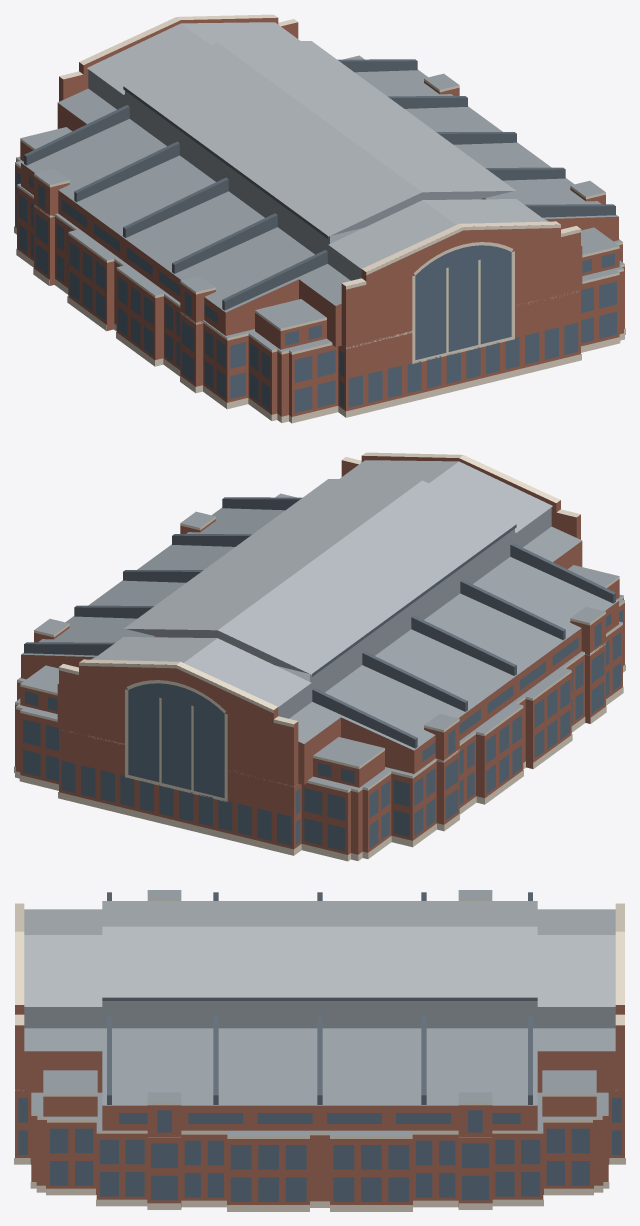
The model's file is indy-lucas-oil-stadium.glb.
3 renders of one model, top to bottom at view 1: azimuth 30°, elevation 25°; view 2: azimuth 150°, elevation 25°; view 3: azimuth 270°, elevation 25°, orthographic. The views are drawn at different scales.
Parts seen in each view (by area): view 1: Lucas Oil Stadium; view 2: Lucas Oil Stadium; view 3: Lucas Oil Stadium.
Part boxes in pixels (bbox=[...]): Lucas Oil Stadium: bbox=[14, 14, 625, 423]; Lucas Oil Stadium: bbox=[14, 452, 625, 861]; Lucas Oil Stadium: bbox=[14, 890, 625, 1211].
Bounding box in the file's own units: 217 × 82.5 × 259.
